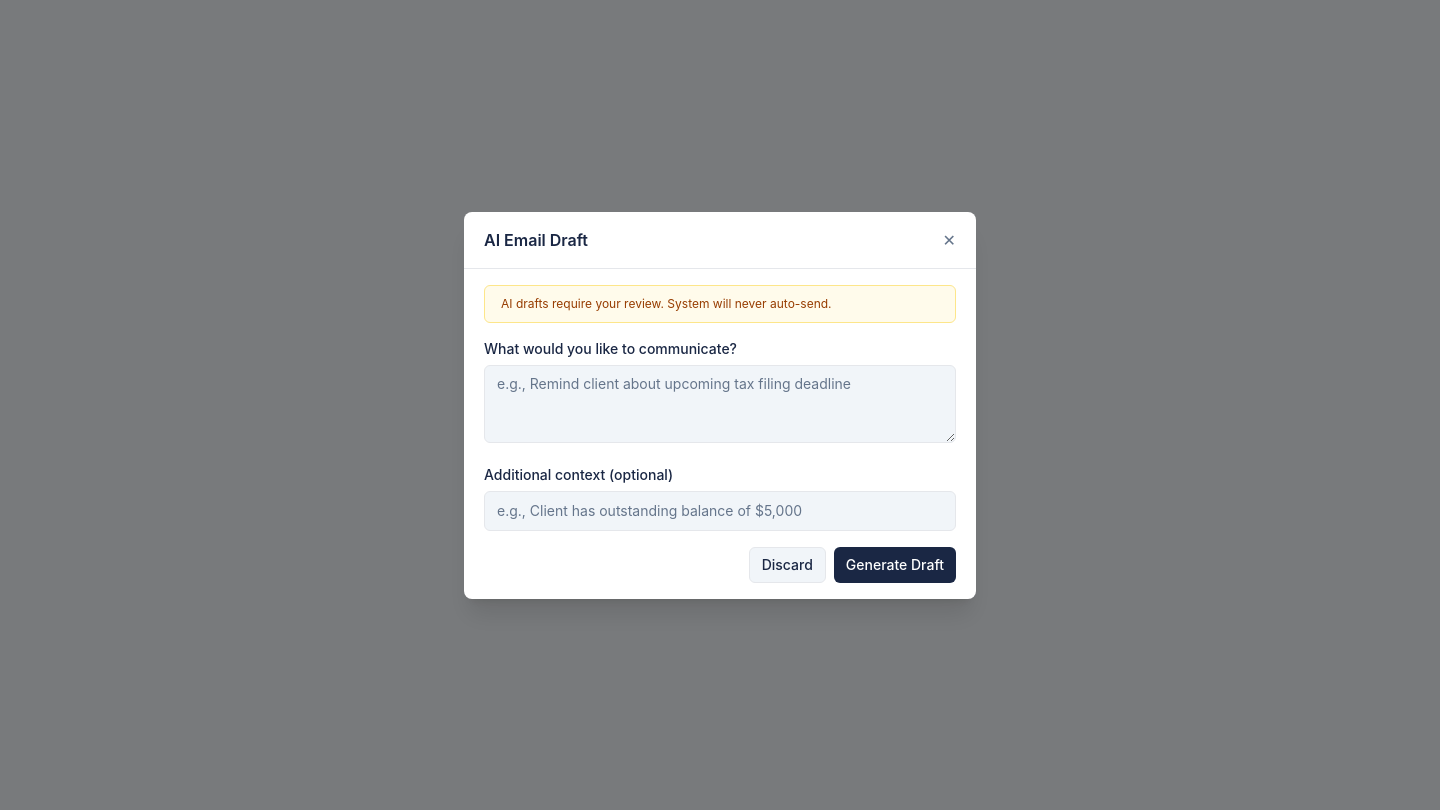
Scenario: AiDraftModal › shows error message when draft generation fails
Type "Remind about tax filing deadline" into the text box with placeholder "e.g., Remind client about upcoming tax filing deadline".
click(720, 404); type("Remind about tax filing deadline")  # box [484, 364, 956, 442]
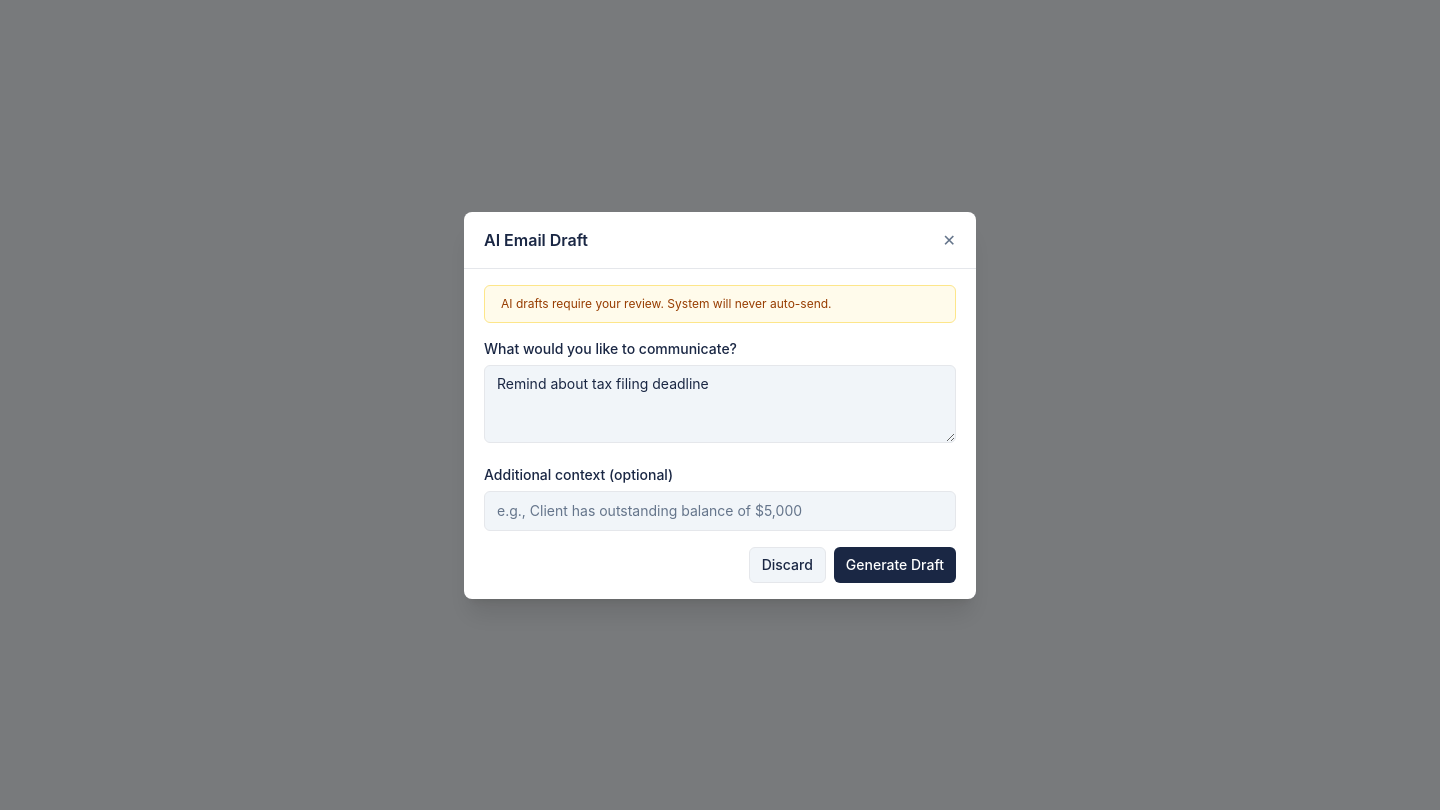
Click the button "Generate Draft".
click(895, 564)  # box [834, 546, 956, 582]
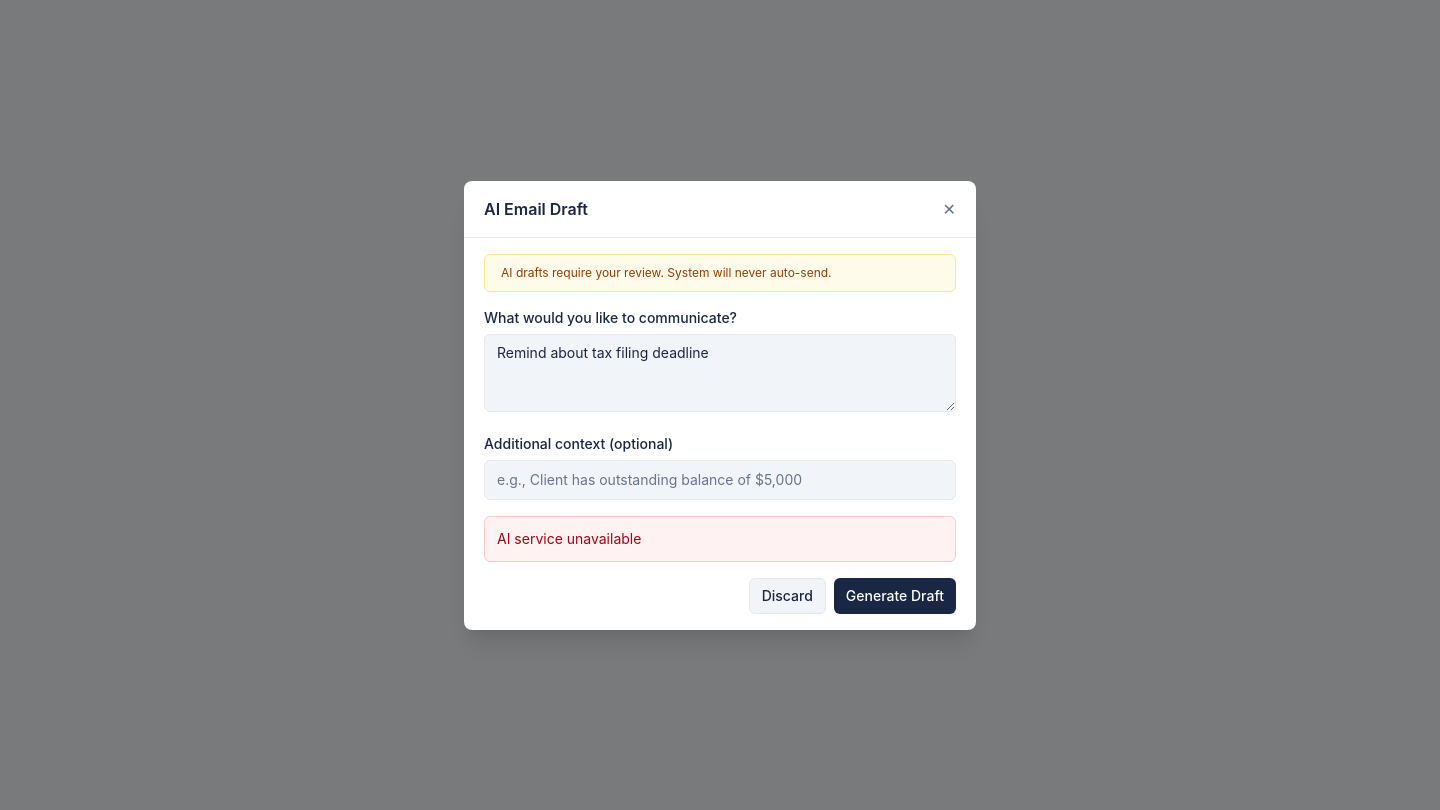
Expected: the text "AI service unavailable" is shown, [484, 516, 956, 562]
